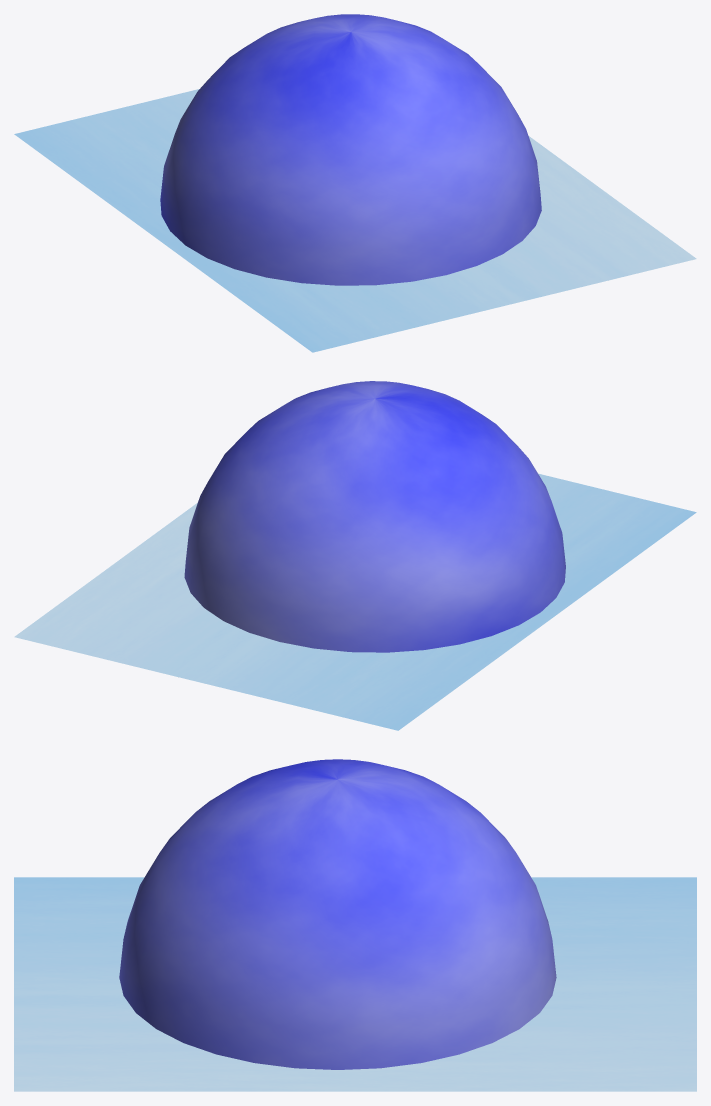
Rendered from SkyDome.FBX.
The picture shows the model from 3 angles, top to bottom: view 1: azimuth 30°, elevation 25°; view 2: azimuth 150°, elevation 25°; view 3: azimuth 270°, elevation 25°; orthographic projection. The views are drawn at different scales.
Visible parts, largest first — view 1: Sphere001, Box001; view 2: Sphere001, Box001; view 3: Sphere001, Box001.
Boxes of the visible parts, x1=… form: Sphere001: x1=160, y1=14, x2=541, y2=285; Box001: x1=14, y1=89, x2=696, y2=352; Sphere001: x1=184, y1=381, x2=565, y2=652; Box001: x1=14, y1=473, x2=696, y2=730; Sphere001: x1=119, y1=759, x2=556, y2=1069; Box001: x1=14, y1=877, x2=696, y2=1091.
Bounding box in the file's own units: 257 × 111 × 345.
2 materials, 2 textured.
